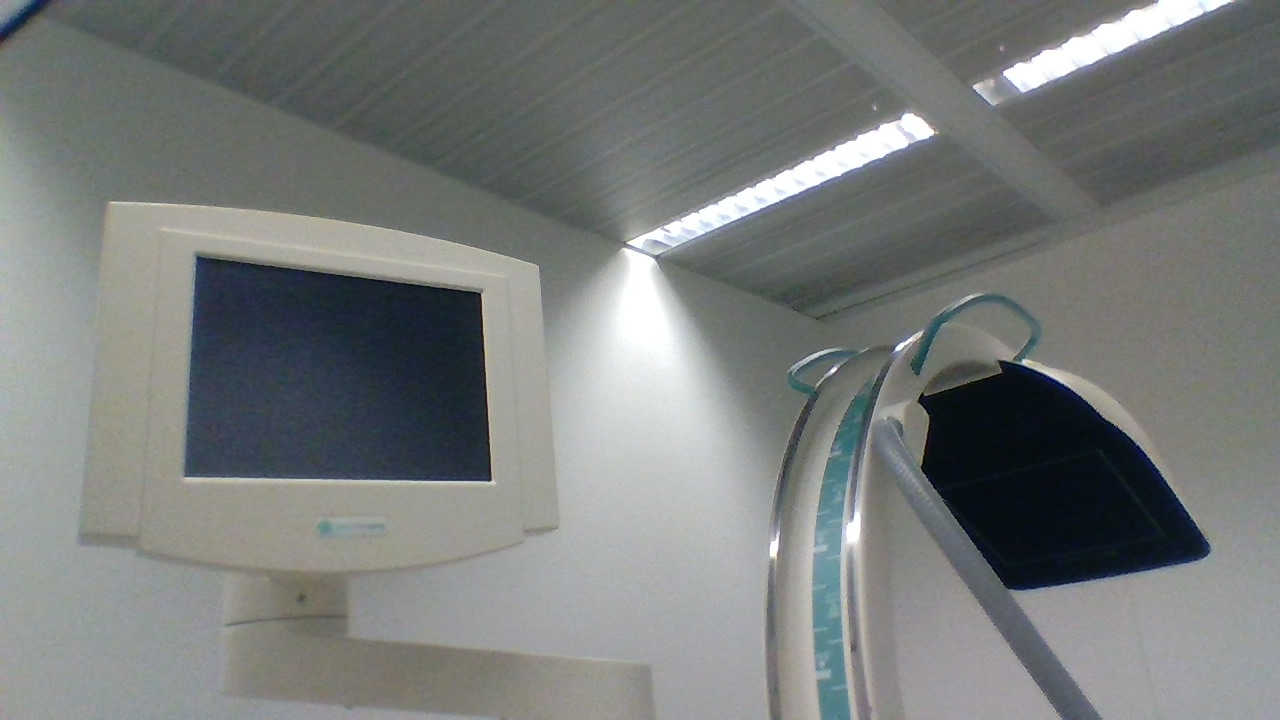carmSCREEN: (74, 201, 561, 577)
carmUP: (892, 354, 1210, 592)
